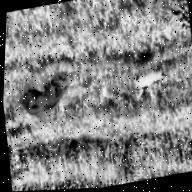boar: (3, 72, 76, 122)
